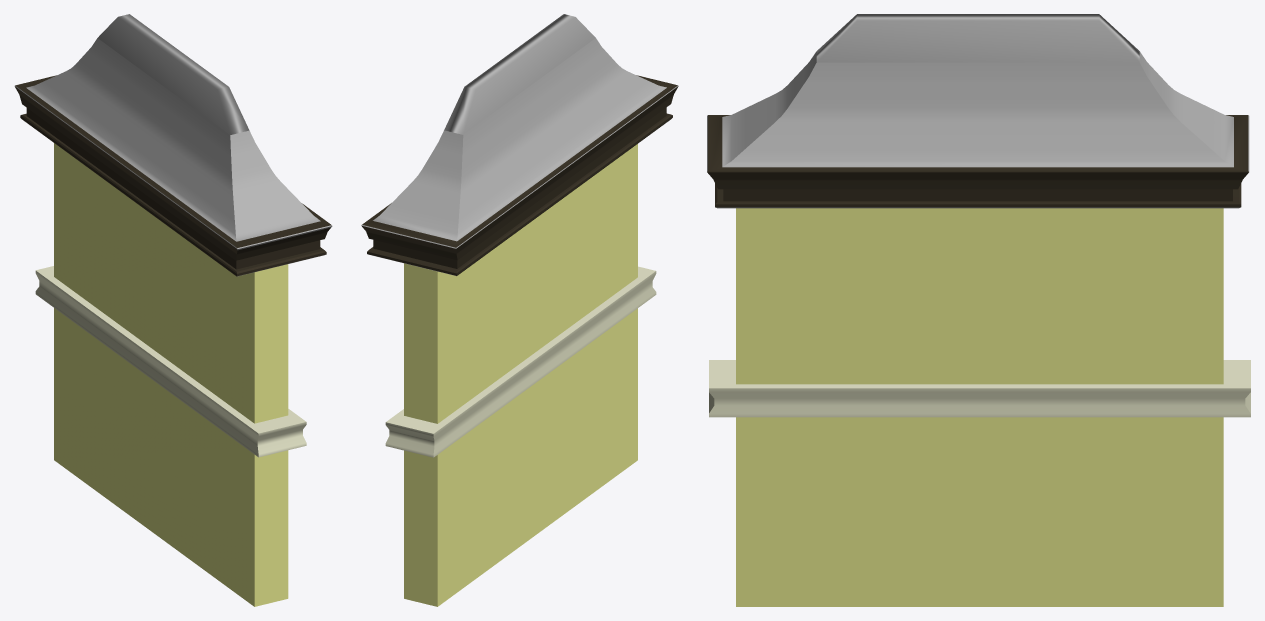
File: wwr house 3.fbx
The picture shows the model from 3 angles, left to right: view 1: azimuth 30°, elevation 25°; view 2: azimuth 150°, elevation 25°; view 3: azimuth 270°, elevation 25°; orthographic projection. The views are drawn at different scales.
Parts seen in each view (by area): view 1: building2, roof1; view 2: building2, roof1; view 3: building2, roof1.
Boxes of the visible parts, left/top/right/bottom form: building2: left=35, top=143, right=306, bottom=606; roof1: left=14, top=14, right=332, bottom=276; building2: left=385, top=144, right=656, bottom=606; roof1: left=361, top=14, right=678, bottom=275; building2: left=709, top=208, right=1250, bottom=606; roof1: left=707, top=14, right=1249, bottom=208.
Bounding box in the file's own units: 10.34 × 49.6 × 42.12.
